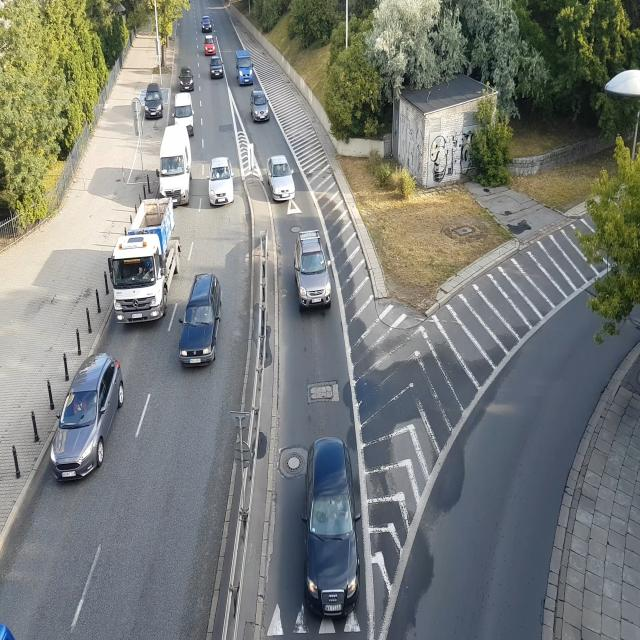car: (298, 438, 365, 624), (49, 354, 124, 482), (178, 273, 221, 366), (294, 229, 335, 311), (160, 124, 194, 205), (208, 157, 236, 208), (267, 154, 295, 202), (144, 85, 165, 118), (236, 54, 256, 88), (251, 90, 272, 122), (180, 65, 196, 90), (211, 59, 225, 80), (204, 39, 216, 57), (201, 18, 212, 32)
truck: (108, 198, 180, 326)
